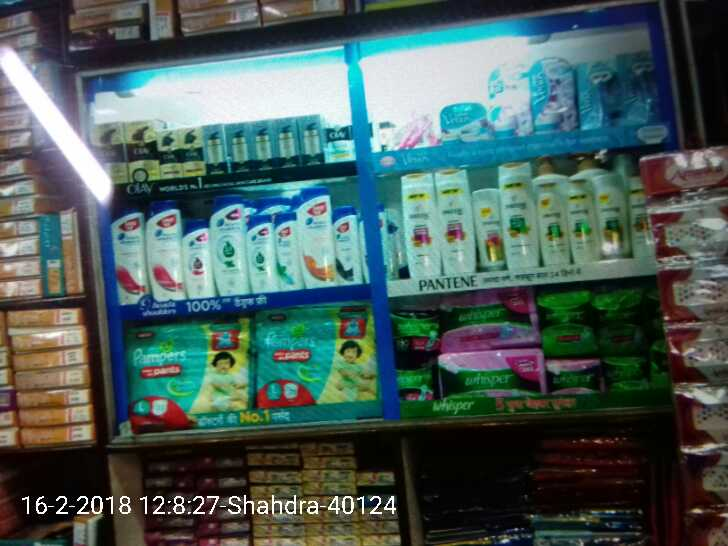venus: (490, 66, 535, 135), (535, 56, 572, 135), (577, 63, 622, 124), (622, 49, 654, 124), (441, 101, 483, 141), (397, 109, 435, 152)
